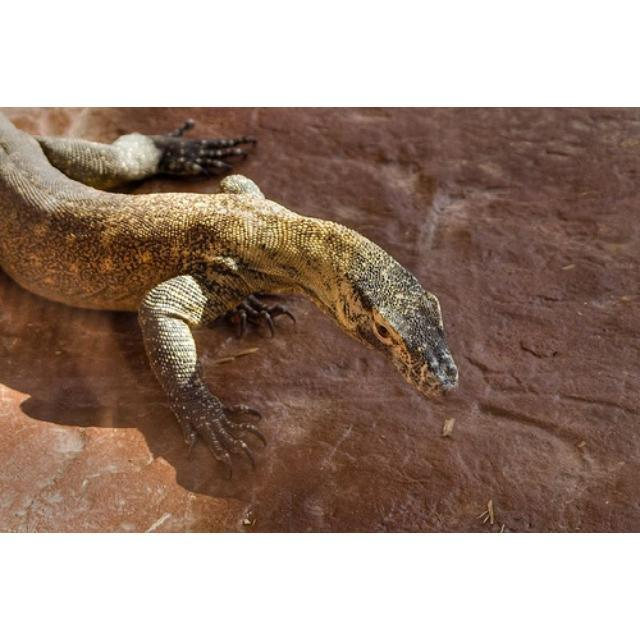KomodoDragon: (1, 108, 460, 481)
